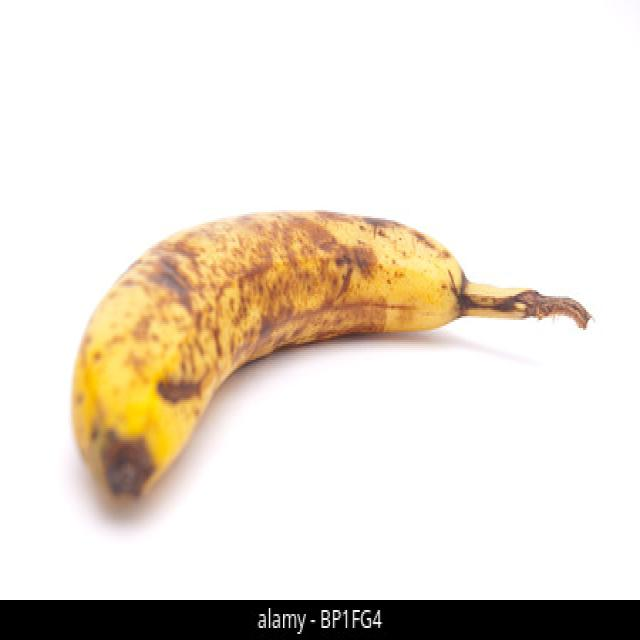overripe: (64, 205, 542, 520)
